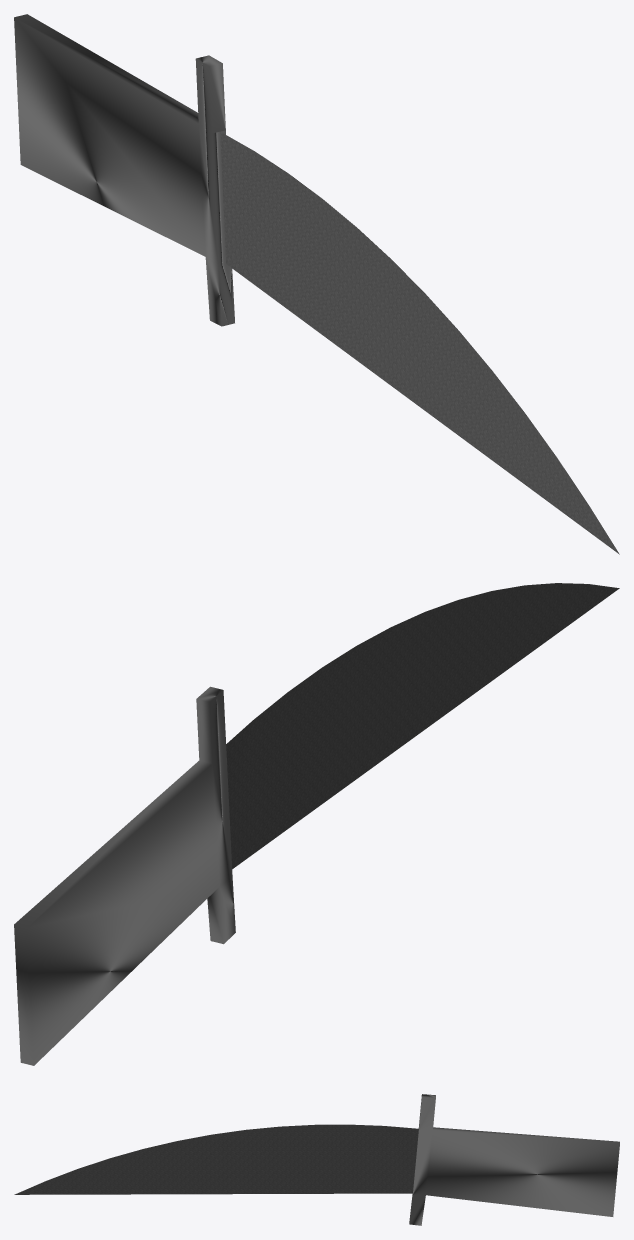
The model's file is model_align.obj.
3 views of the same model, one above another, from view 1: azimuth 30°, elevation 25°; view 2: azimuth 150°, elevation 25°; view 3: azimuth 270°, elevation 25° (orthographic). The views are drawn at different scales.
Size of the model in its own units: 0.00295 by 0.0539 by 0.2302.
